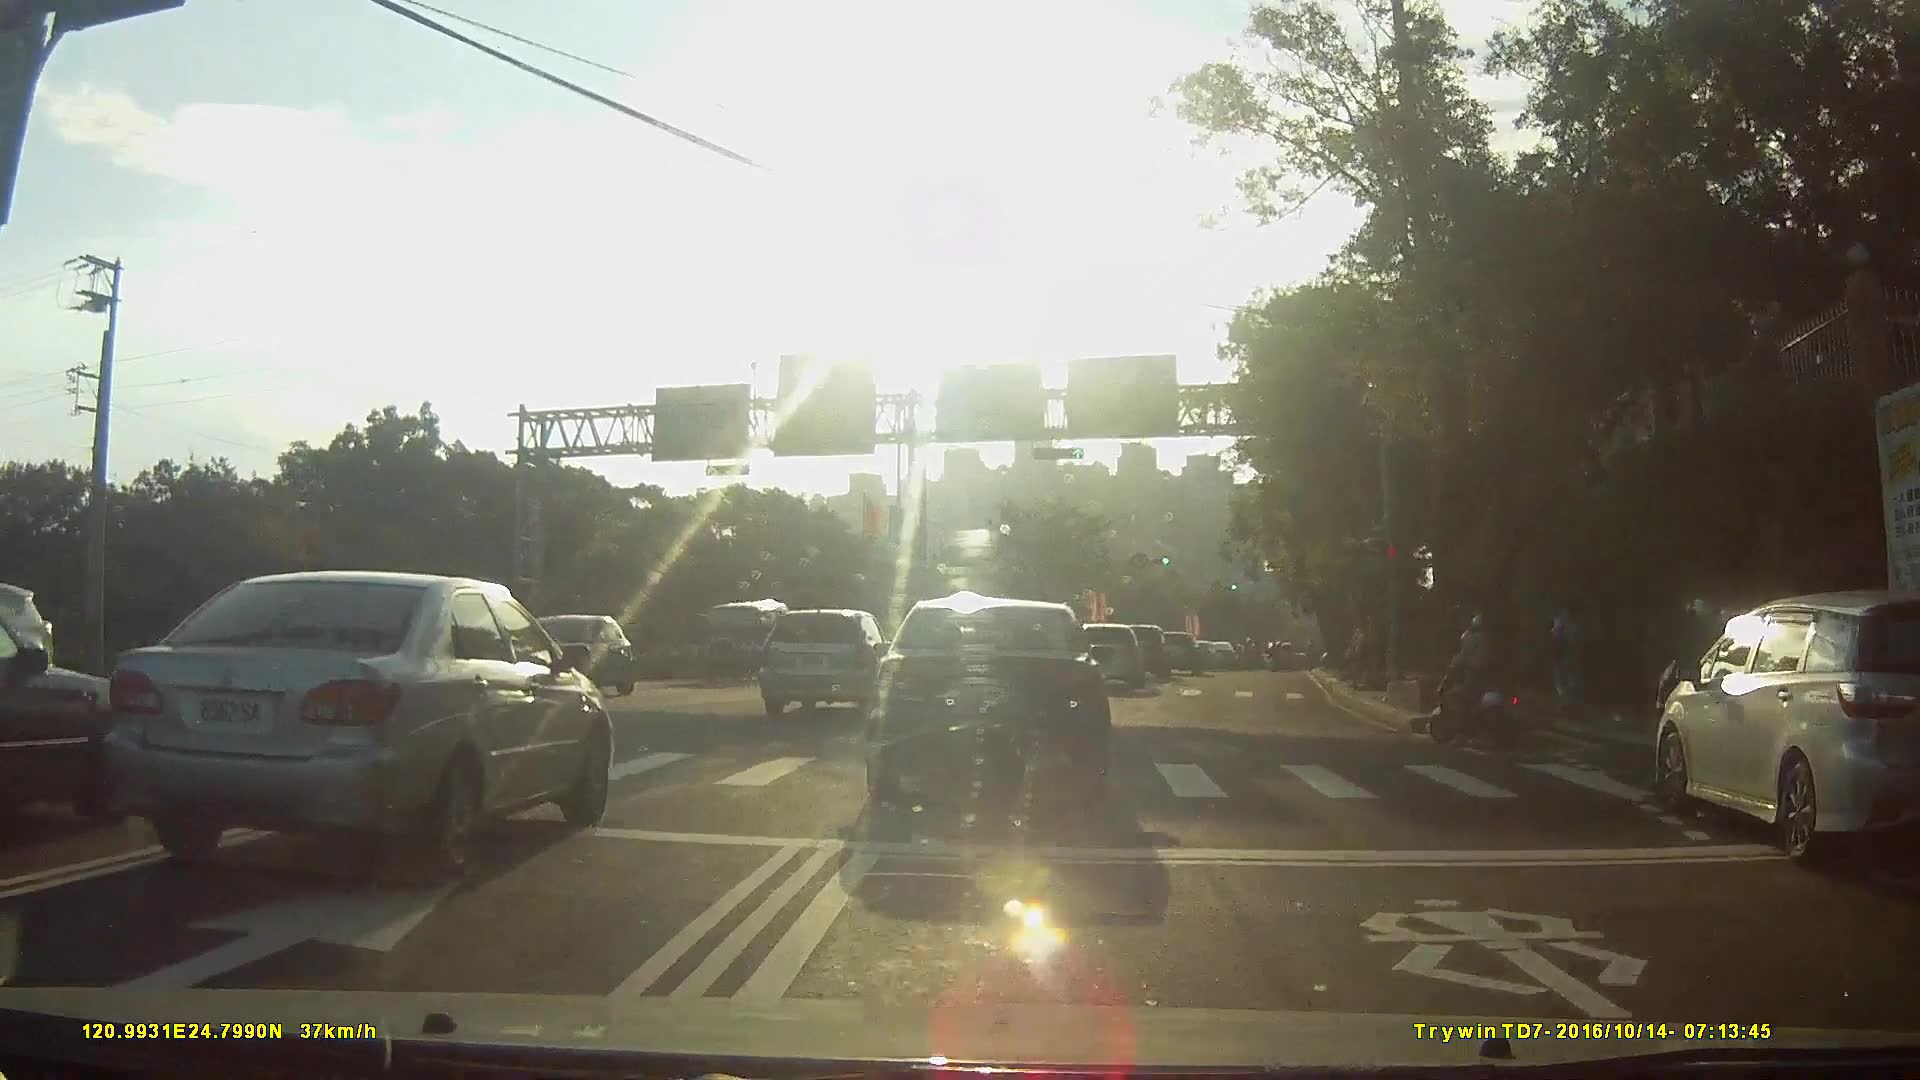pedestrian: (1546, 593, 1592, 721)
rider: (1434, 617, 1541, 757)
vehicle: (99, 569, 626, 878), (1651, 586, 1913, 873), (872, 597, 1123, 811), (1, 617, 134, 829), (486, 610, 649, 709), (766, 606, 907, 715), (698, 595, 805, 687), (1080, 622, 1154, 692), (1117, 622, 1179, 680), (1157, 631, 1213, 675), (1205, 643, 1244, 671)
